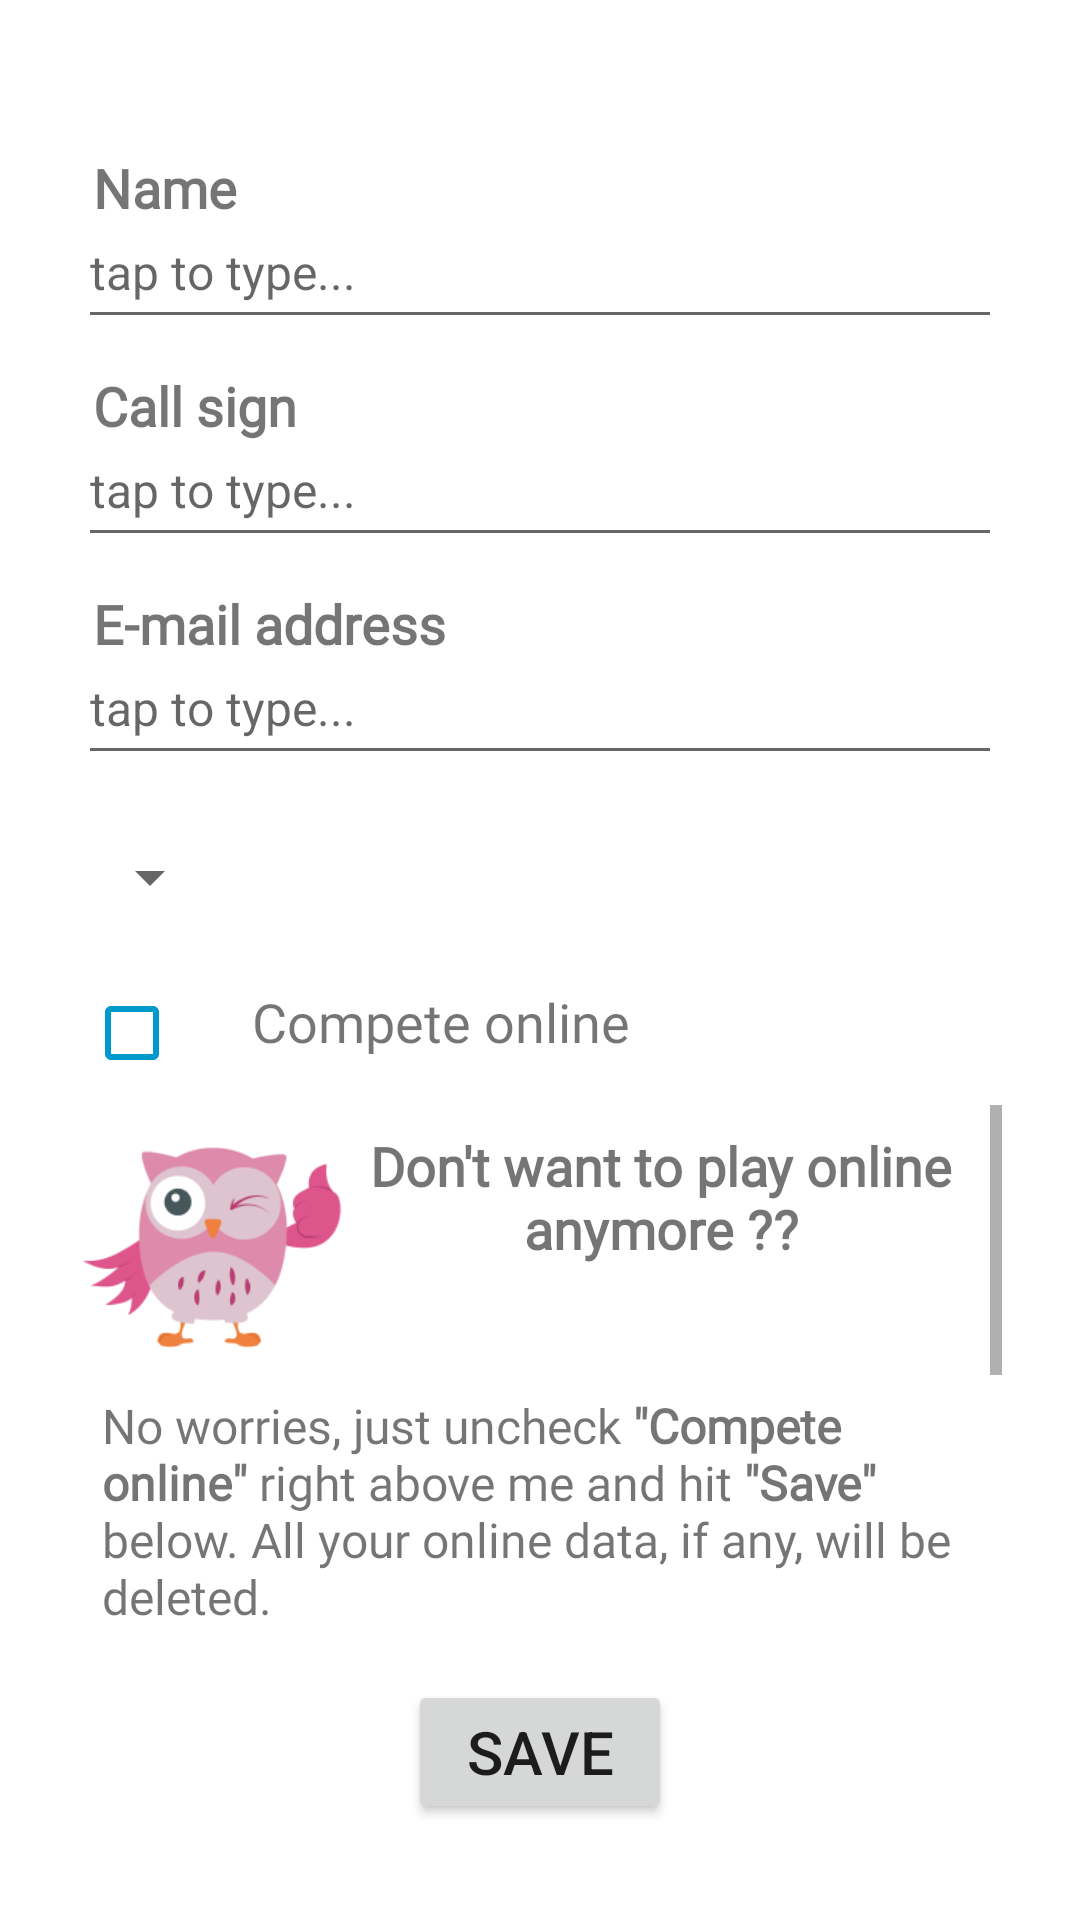

Named icons in this screenshot (1080 × 1920) and their bounding boxes, bbox=(x1, y1, x2, y2):
pinkowlsmall: bbox=(83, 1147, 341, 1348)
